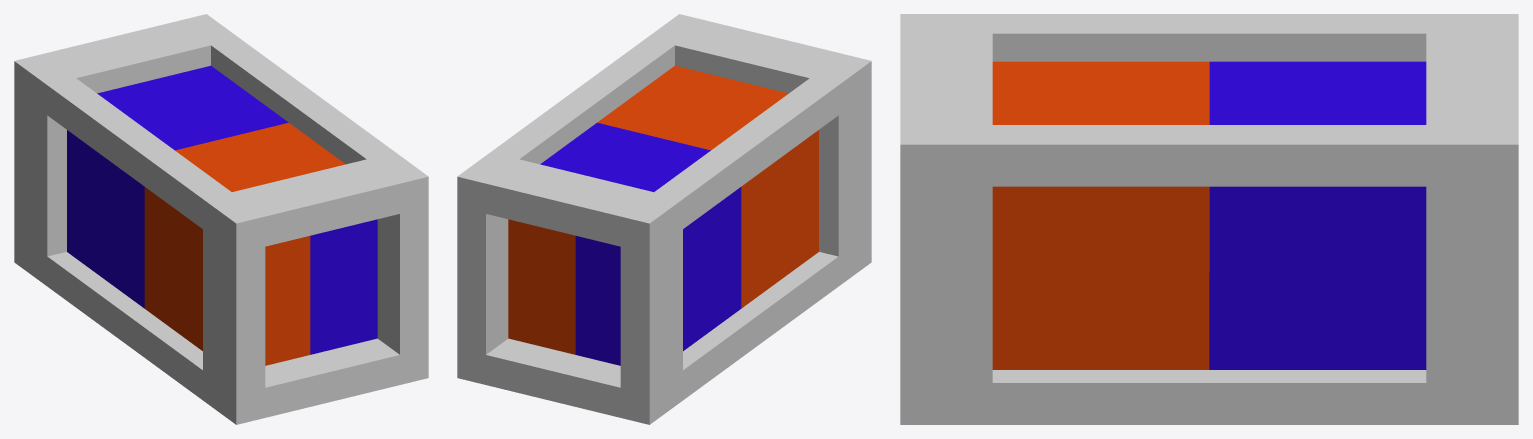
Rendered from FactorySpot.fbx.
3 renders of one model, left to right at view 1: azimuth 30°, elevation 25°; view 2: azimuth 150°, elevation 25°; view 3: azimuth 270°, elevation 25°, orthographic. The views are drawn at different scales.
Parts seen in each view (by area): view 1: Factory; view 2: Factory; view 3: Factory.
Boxes of the visible parts, <box> form: Factory: <box>14,14,428,424</box>; Factory: <box>457,14,871,424</box>; Factory: <box>900,14,1518,424</box>.
Bounding box in the file's own units: 200 × 200 × 400.
